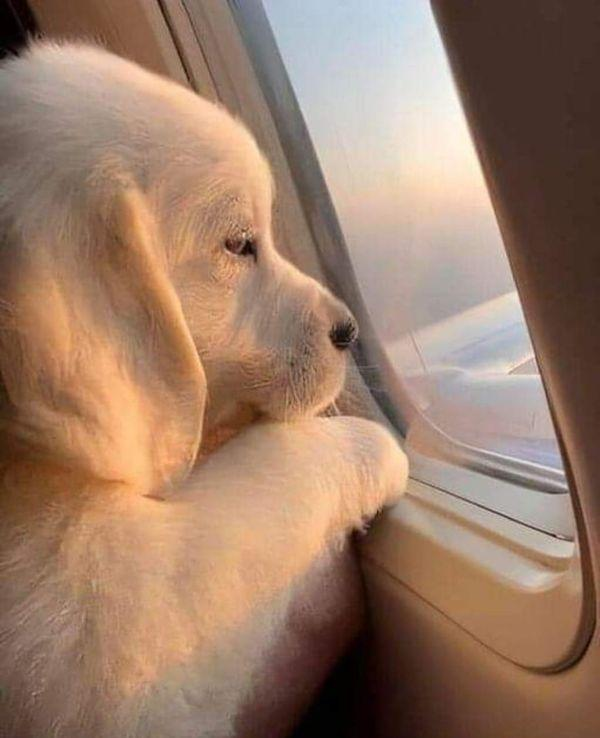puppy-dog: (0, 34, 411, 738)
